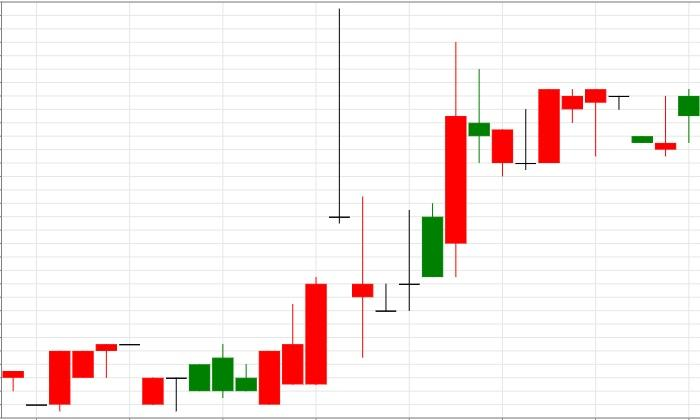hanging_man_fall: (491, 88, 607, 176)
